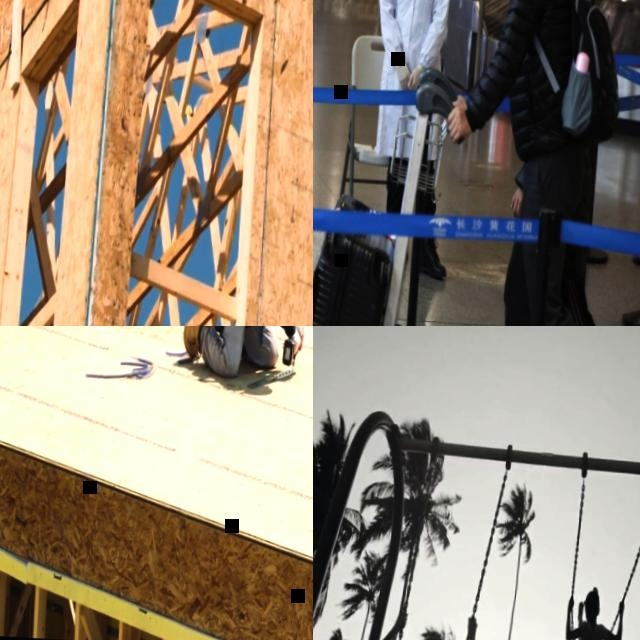NO-Hardhat: (586, 586, 605, 608), (420, 629, 447, 640)
NO-Safety Vest: (505, 0, 587, 145), (382, 0, 448, 81), (577, 618, 606, 640)
Person: (426, 0, 640, 326), (474, 0, 640, 326), (362, 0, 474, 282), (180, 326, 313, 381), (362, 601, 486, 640), (563, 583, 626, 640)
